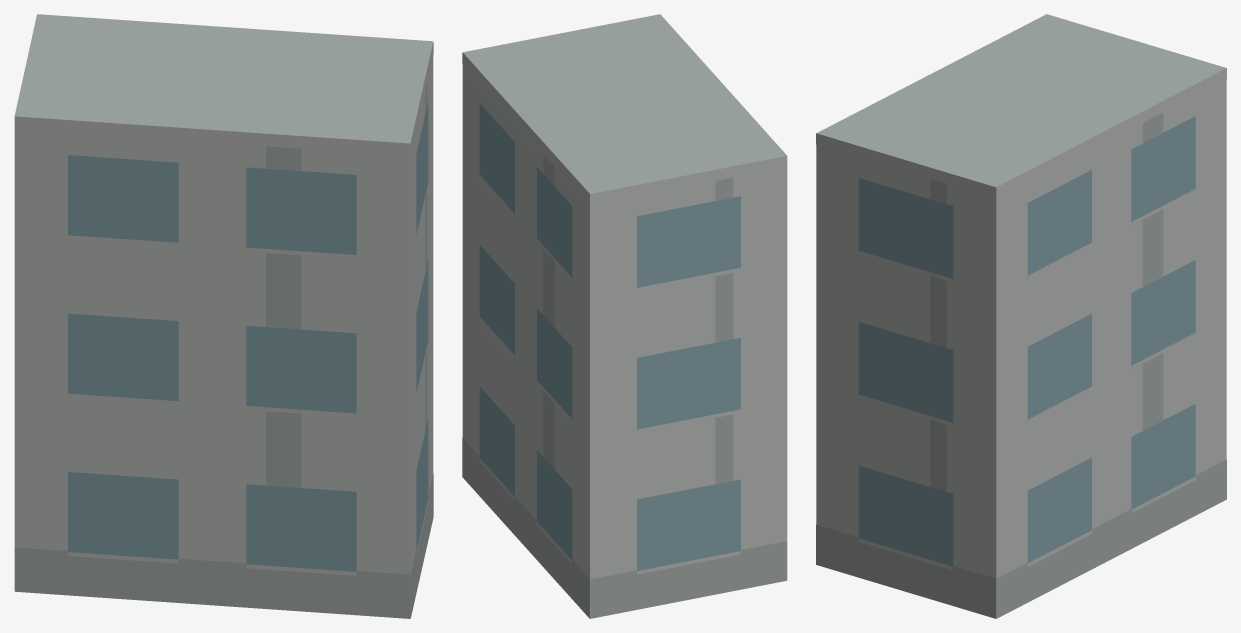
Rendered from survey-upis-32571564.glb.
The picture shows the model from 3 angles, left to right: view 1: azimuth 30°, elevation 25°; view 2: azimuth 150°, elevation 25°; view 3: azimuth 270°, elevation 25°; orthographic projection. The views are drawn at different scales.
Parts seen in each view (by area): view 1: survey-upis-32571564.tmp; view 2: survey-upis-32571564.tmp; view 3: survey-upis-32571564.tmp.
Part boxes in pixels (x1,y1,x2,y2): survey-upis-32571564.tmp: (14,14,433,618); survey-upis-32571564.tmp: (462,14,787,618); survey-upis-32571564.tmp: (816,14,1226,618).
Size of the model in its own units: 7.89 by 9.15 by 7.9.
